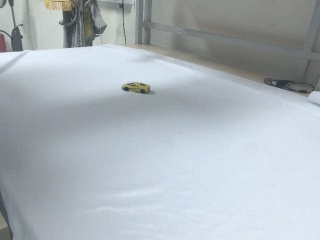toy_car: (122, 82, 151, 93)
